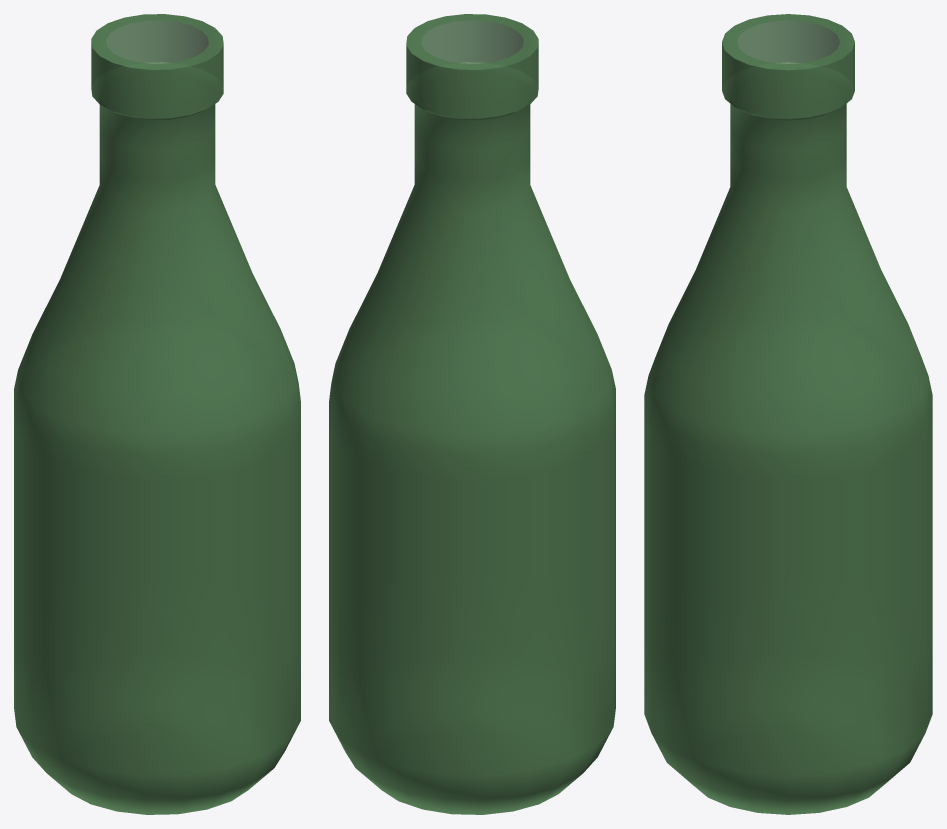
File: Mesh_WineBottle.fbx
The picture shows the model from 3 angles, left to right: view 1: azimuth 30°, elevation 25°; view 2: azimuth 150°, elevation 25°; view 3: azimuth 270°, elevation 25°; orthographic projection.
Visible parts, largest first — view 1: pCylinder1; view 2: pCylinder1; view 3: pCylinder1.
Part boxes in pixels (x1,y1,x2,y2): pCylinder1: (14,14,300,814); pCylinder1: (329,14,615,814); pCylinder1: (644,14,932,814).
Size of the model in its own units: 58.29 by 58.29 by 163.
